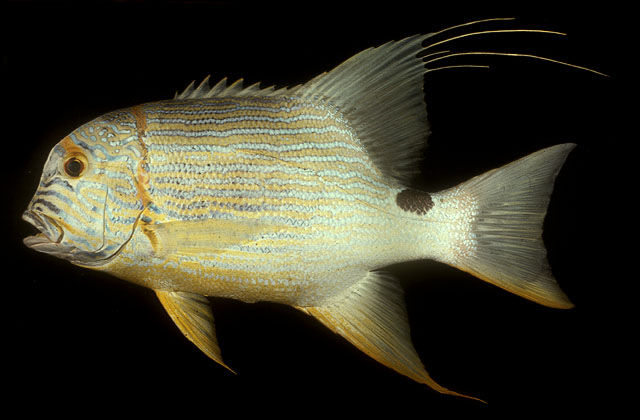fish: (21, 18, 609, 404)
